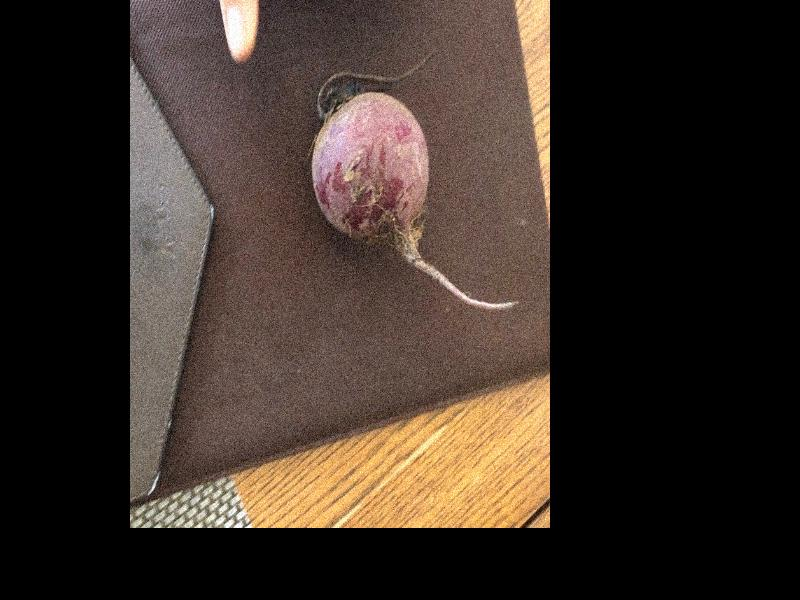Beet: (312, 52, 516, 310)
